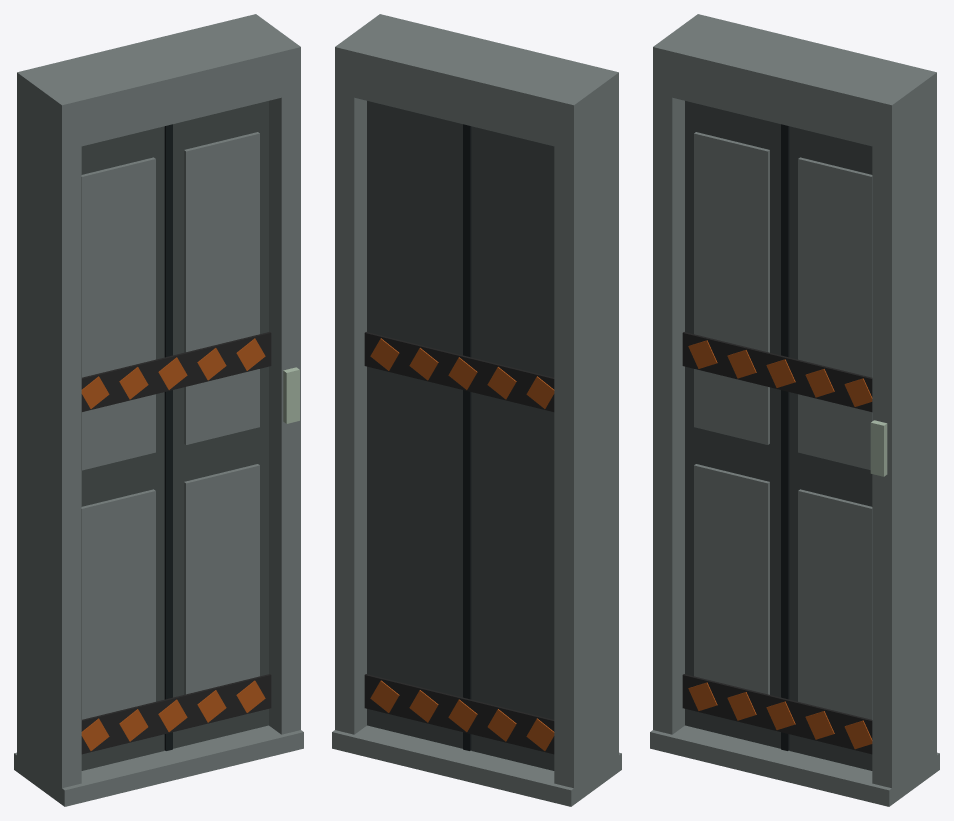
The model's file is CMU3DMaintenanceAirlock.glb.
3 views of the same model, side by side, from view 1: azimuth 30°, elevation 25°; view 2: azimuth 150°, elevation 25°; view 3: azimuth 330°, elevation 25° (orthographic).
Parts seen in each view (by area): view 1: left jamb, upper inset (×2), lower inset (×2), solid leaf (×2), lintel, right jamb, threshold, center seam, hazard rail 1.55 -0.092, hazard rail 0.21 -0.092, access reader, orange rail stripe 1.55 -0.092 -0.16 (+9 smaller); view 2: solid leaf (×2), left jamb, lintel, right jamb, threshold, center seam, hazard rail 1.55 0.092, hazard rail 0.21 0.092, orange rail stripe 1.55 0.092 -0.16, orange rail stripe 0.21 0.092 0, orange rail stripe 0.21 0.092 0.32, orange rail stripe 1.55 0.092 0.16 (+6 smaller); view 3: right jamb, upper inset (×2), lower inset (×2), solid leaf (×2), lintel, left jamb, threshold, center seam, hazard rail 0.21 -0.092, hazard rail 1.55 -0.092, access reader, orange rail stripe 0.21 -0.092 -0.32 (+9 smaller).
Part boxes in pixels (x1,y1,x2,y2): left jamb: (17, 106, 81, 804); upper inset (×2): (81, 132, 259, 470); lower inset (×2): (81, 464, 259, 719); solid leaf (×2): (81, 101, 268, 770); lintel: (17, 14, 300, 147); right jamb: (269, 80, 300, 734); threshold: (14, 725, 303, 806); center seam: (164, 124, 172, 750); hazard rail 1.55 -0.092: (81, 332, 271, 411); hazard rail 0.21 -0.092: (81, 674, 271, 754); access reader: (283, 367, 299, 423); orange rail stripe 1.55 -0.092 -0.16: (119, 367, 148, 399); solid leaf (×2): (367, 101, 554, 770); left jamb: (554, 106, 618, 796); lintel: (335, 14, 618, 150); right jamb: (335, 80, 366, 734); threshold: (332, 725, 621, 806); center seam: (463, 124, 471, 750); hazard rail 1.55 0.092: (364, 332, 554, 411); hazard rail 0.21 0.092: (364, 674, 554, 754); orange rail stripe 1.55 0.092 -0.16: (487, 367, 516, 399); orange rail stripe 0.21 0.092 0: (448, 699, 477, 731); orange rail stripe 0.21 0.092 0.32: (370, 680, 399, 712); orange rail stripe 1.55 0.092 0.16: (409, 348, 438, 380); right jamb: (872, 106, 936, 798); upper inset (×2): (694, 132, 872, 469); lower inset (×2): (694, 464, 872, 719); solid leaf (×2): (685, 101, 872, 770); lintel: (653, 14, 936, 149); left jamb: (653, 80, 684, 734); threshold: (650, 725, 939, 806); center seam: (781, 124, 789, 750); hazard rail 0.21 -0.092: (682, 674, 872, 754); hazard rail 1.55 -0.092: (682, 332, 872, 411); access reader: (870, 420, 887, 476); orange rail stripe 0.21 -0.092 -0.32: (688, 682, 717, 710).
Size of the model in its own units: 0.98 by 2.74 by 0.364.
